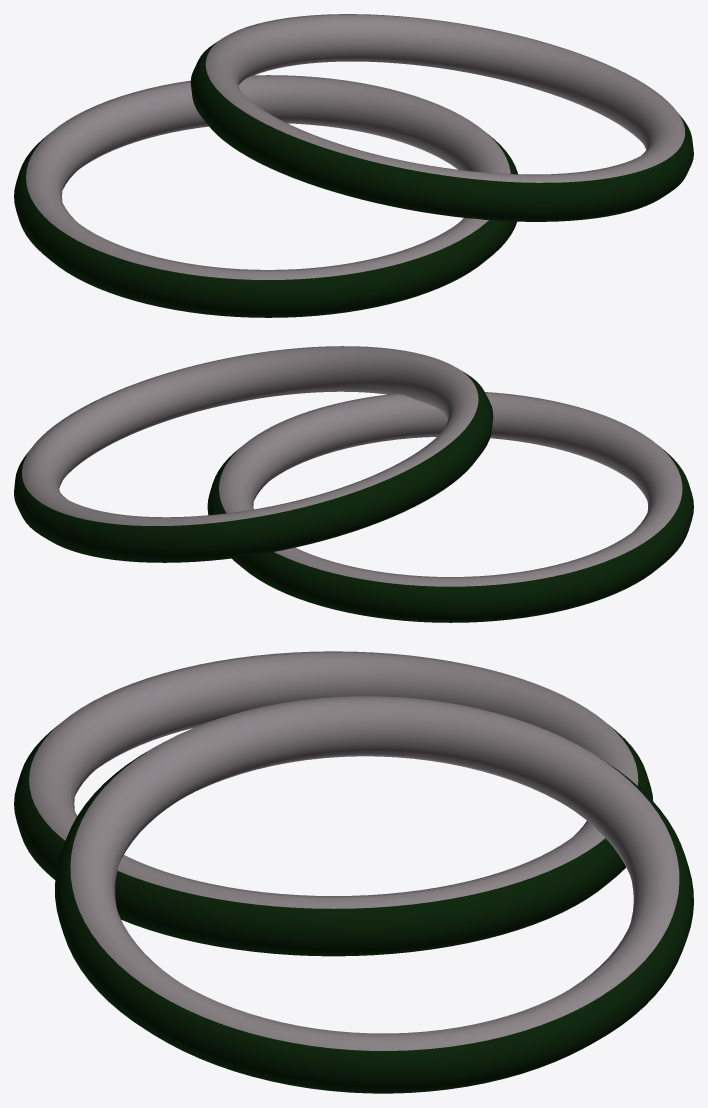
Rendered from onionmoldy(plural).fbx.
3 renders of one model, top to bottom at view 1: azimuth 30°, elevation 25°; view 2: azimuth 150°, elevation 25°; view 3: azimuth 270°, elevation 25°, orthographic. The views are drawn at different scales.
Parts seen in each view (by area): view 1: Torus.001, Torus; view 2: Torus.001, Torus; view 3: Torus.001, Torus.
Part boxes in pixels (x1=…): Torus.001: x1=190, y1=14, x2=693, y2=221; Torus: x1=14, y1=75, x2=517, y2=317; Torus.001: x1=14, y1=346, x2=493, y2=562; Torus: x1=207, y1=392, x2=693, y2=622; Torus.001: x1=55, y1=696, x2=693, y2=1093; Torus: x1=14, y1=651, x2=652, y2=956.
Bounding box in the file's own units: 297 × 54.33 × 222.
